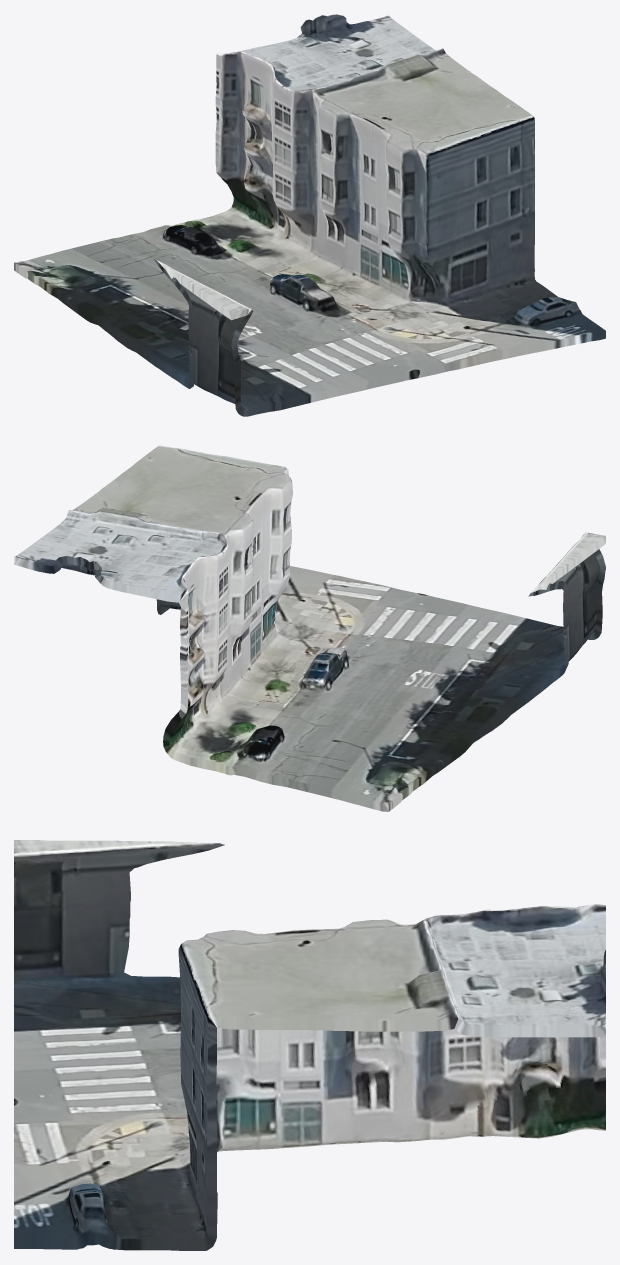
Rendered from z20-167733-405193-h0-yup-uvflip-v3-world.glb.
The picture shows the model from 3 angles, top to bottom: view 1: azimuth 30°, elevation 25°; view 2: azimuth 150°, elevation 25°; view 3: azimuth 270°, elevation 25°; orthographic projection. The views are drawn at different scales.
Size of the model in its own units: 30.16 by 14 by 30.32.
1 material, 1 textured.
